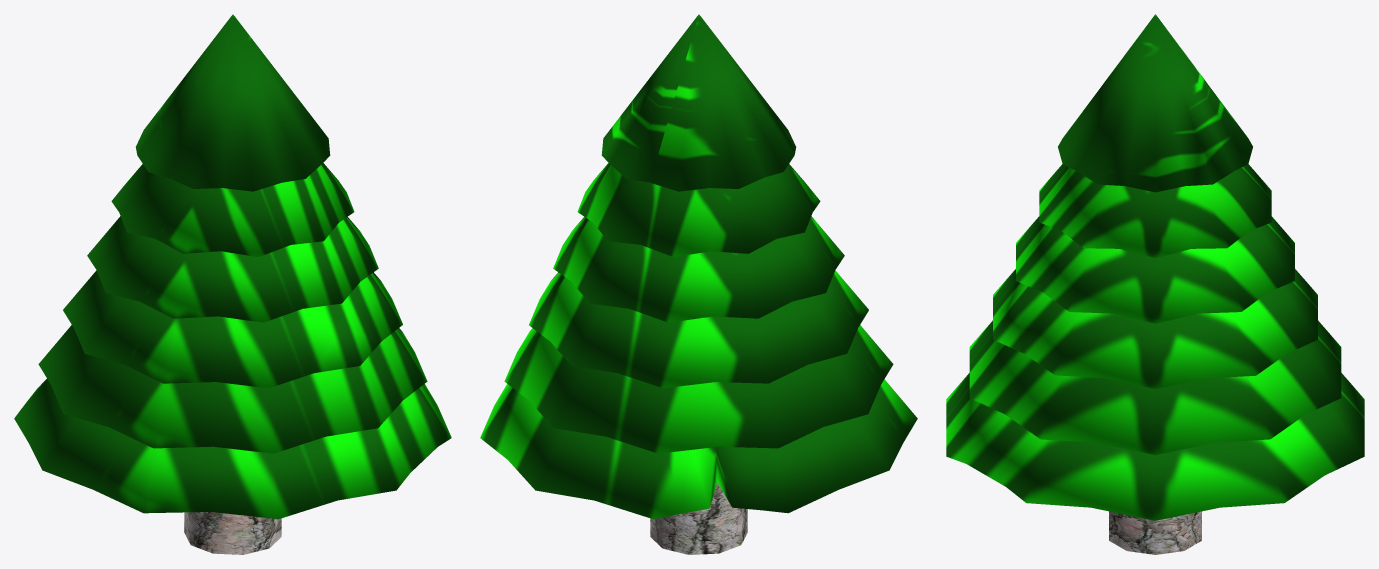
Rendered from Wood2.gltf.
3 renders of one model, left to right at view 1: azimuth 30°, elevation 25°; view 2: azimuth 150°, elevation 25°; view 3: azimuth 270°, elevation 25°, orthographic.
Visible parts, largest first — view 1: Cone006, Cylinder001; view 2: Cone006, Cylinder001; view 3: Cone006, Cylinder001.
Boxes of the visible parts, left/top/right/bottom form: Cone006: left=14, top=14, right=451, bottom=519; Cylinder001: left=184, top=512, right=281, bottom=554; Cone006: left=480, top=14, right=917, bottom=519; Cylinder001: left=650, top=482, right=747, bottom=554; Cone006: left=946, top=14, right=1364, bottom=520; Cylinder001: left=1109, top=511, right=1201, bottom=554.
Size of the model in its own units: 1.8 by 2.35 by 1.71.
Materials: 2 (2 with a texture image).
